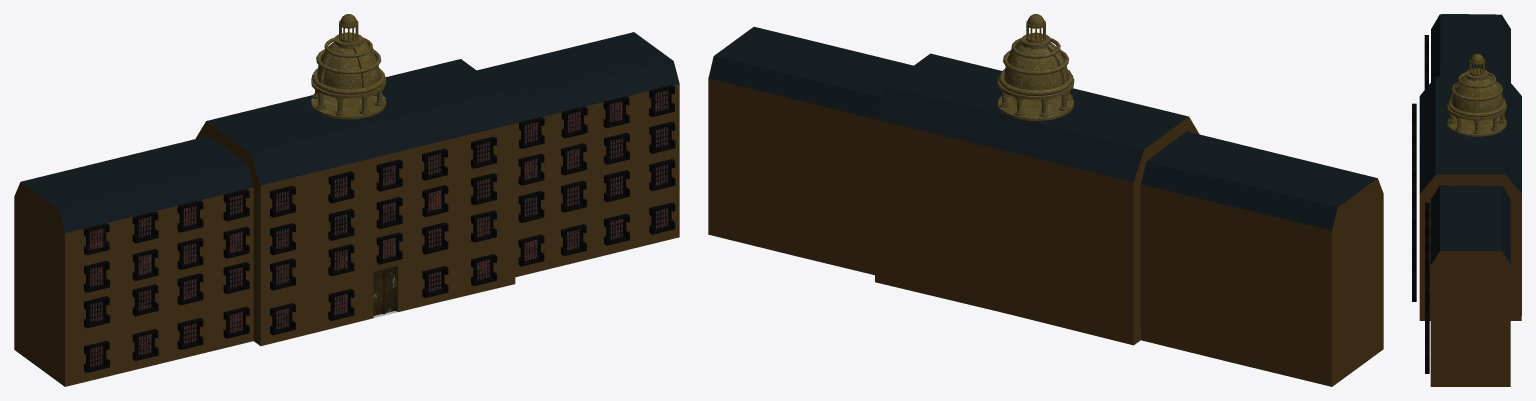
The model's file is abandoned_hospital_building_20_2516.glb.
3 views of the same model, side by side, from view 1: azimuth 30°, elevation 25°; view 2: azimuth 150°, elevation 25°; view 3: azimuth 270°, elevation 25° (orthographic). The views are drawn at different scales.
Visible parts, largest first — view 1: Outer_wall1 (×3), polySurface24 (×2), polySurface53, tower__complete_Middle_body, tower__complete_holding_for_pillars, pCube10, tower__complete_Top_part, tower__complete_Pillars; view 2: Outer_wall1 (×3), tower__complete_Middle_body, tower__complete_holding_for_pillars, tower__complete_Top_part, tower__complete_Pillars; view 3: Outer_wall1 (×2), polySurface24, tower__complete_Middle_body, tower__complete_holding_for_pillars, tower__complete_Top_part, tower__complete_Pillars.
Boxes of the visible parts, bbox=[...] form: Outer_wall1 (×3): bbox=[14, 32, 679, 386]; polySurface24 (×2): bbox=[84, 85, 675, 372]; polySurface53: bbox=[90, 90, 668, 367]; tower__complete_Middle_body: bbox=[312, 37, 385, 94]; tower__complete_holding_for_pillars: bbox=[311, 76, 386, 119]; pCube10: bbox=[373, 266, 396, 315]; tower__complete_Top_part: bbox=[334, 14, 362, 48]; tower__complete_Pillars: bbox=[312, 87, 384, 115]; Outer_wall1 (×3): bbox=[708, 26, 1383, 386]; tower__complete_Middle_body: bbox=[999, 38, 1073, 95]; tower__complete_holding_for_pillars: bbox=[998, 77, 1074, 120]; tower__complete_Top_part: bbox=[1021, 14, 1050, 49]; tower__complete_Pillars: bbox=[999, 89, 1072, 117]; Outer_wall1 (×2): bbox=[1419, 14, 1521, 386]; polySurface24: bbox=[1412, 35, 1429, 373]; tower__complete_Middle_body: bbox=[1448, 72, 1506, 117]; tower__complete_holding_for_pillars: bbox=[1447, 104, 1506, 136]; tower__complete_Top_part: bbox=[1465, 53, 1488, 80]; tower__complete_Pillars: bbox=[1448, 113, 1506, 134].
Size of the model in its own units: 27.27 by 11.67 by 5.35.
11 materials, 11 textured.
